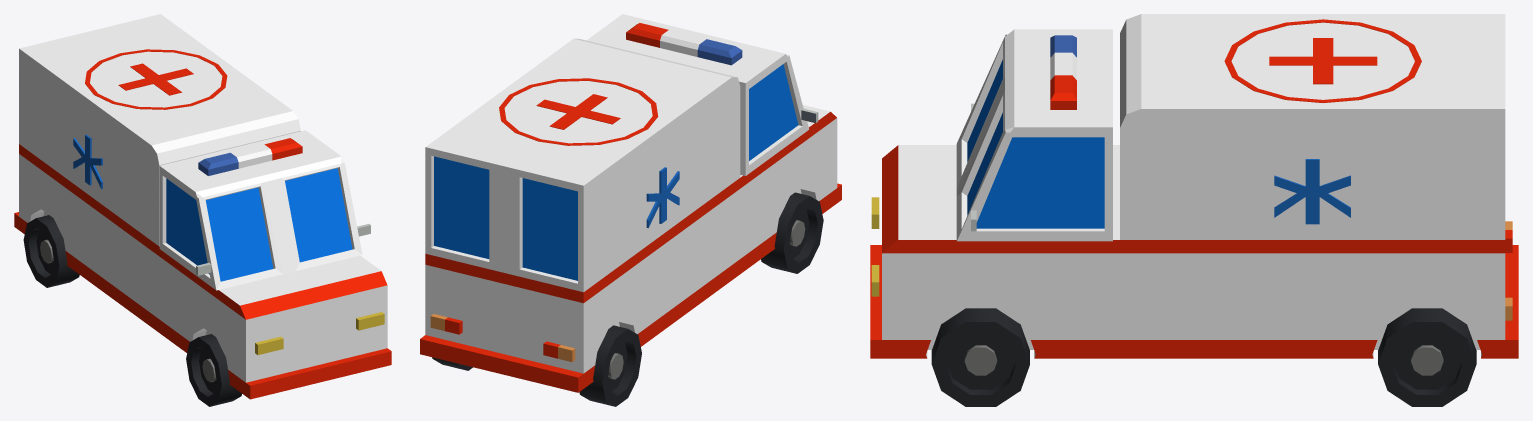
The model's file is Ambulance_1.fbx.
3 views of the same model, side by side, from view 1: azimuth 30°, elevation 25°; view 2: azimuth 150°, elevation 25°; view 3: azimuth 270°, elevation 25° (orthographic). The views are drawn at different scales.
Parts seen in each view (by area): view 1: Ambulance_1; view 2: Ambulance_1; view 3: Ambulance_1.
Boxes of the visible parts, bbox=[...] form: Ambulance_1: bbox=[14, 14, 391, 406]; Ambulance_1: bbox=[420, 14, 841, 406]; Ambulance_1: bbox=[870, 14, 1518, 406].
Size of the model in its own units: 223 by 263 by 526.
